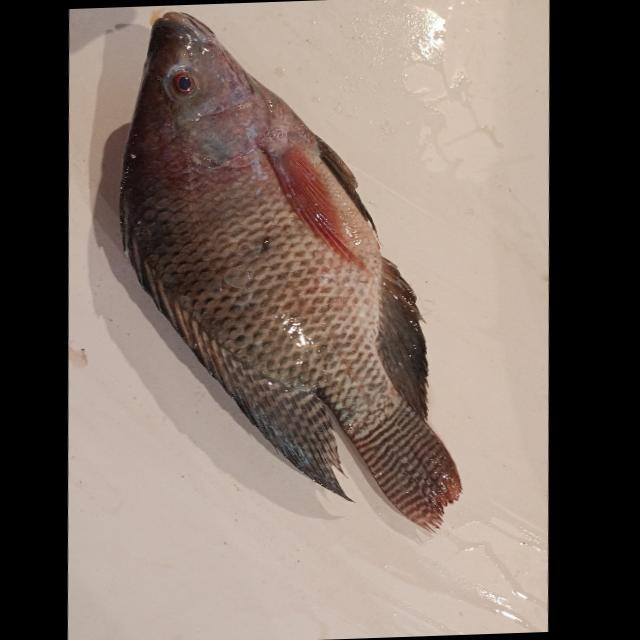Tilapia: (98, 0, 483, 545)
